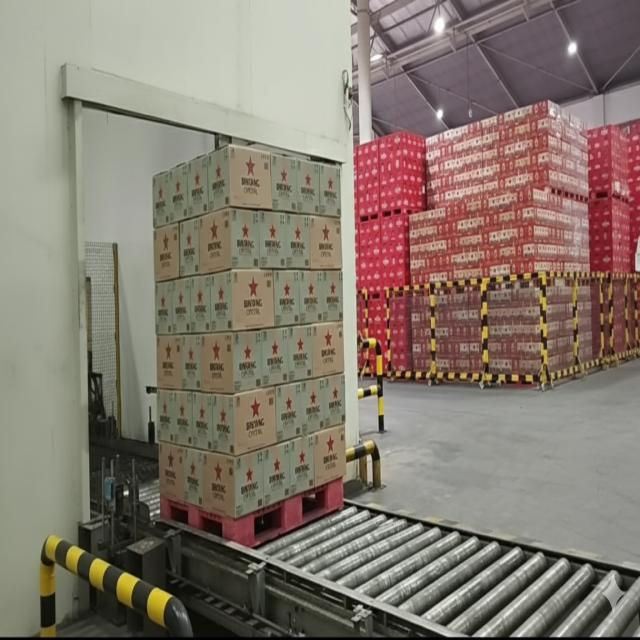pallet: (146, 135, 350, 553)
